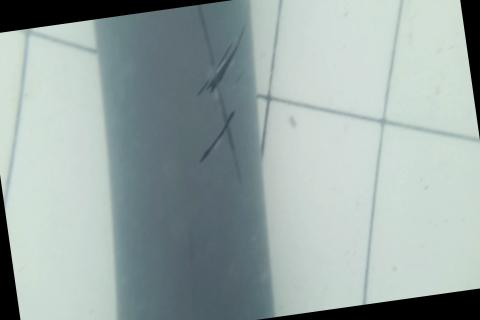keretakan: (174, 0, 266, 193)
